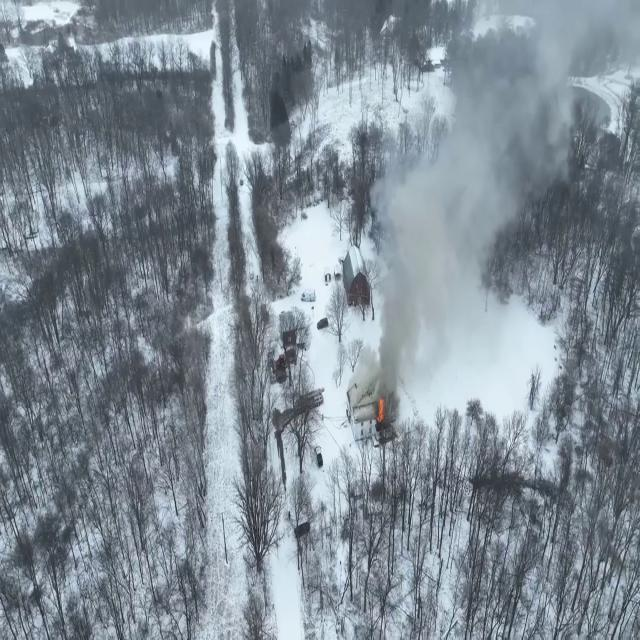Smoke: (357, 2, 571, 440)
